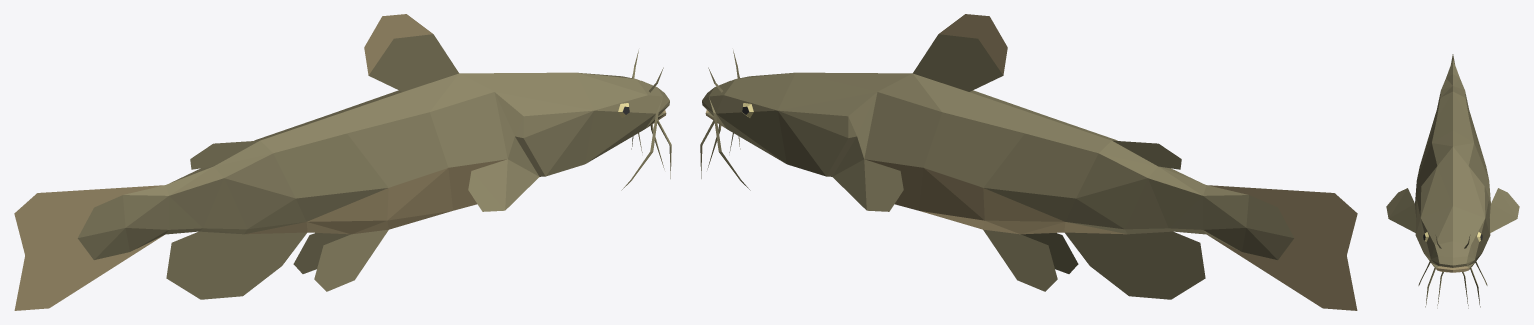
The model's file is Catfish.fbx.
3 renders of one model, left to right at view 1: azimuth 30°, elevation 25°; view 2: azimuth 150°, elevation 25°; view 3: azimuth 270°, elevation 25°, orthographic. The views are drawn at different scales.
Parts seen in each view (by area): view 1: Catfish; view 2: Catfish; view 3: Catfish.
Part boxes in pixels (<box>): Catfish: <box>14,14,671,310</box>; Catfish: <box>700,14,1357,310</box>; Catfish: <box>1386,54,1519,308</box>.
Bounding box in the file's own units: 4.49 × 1.65 × 1.14.
